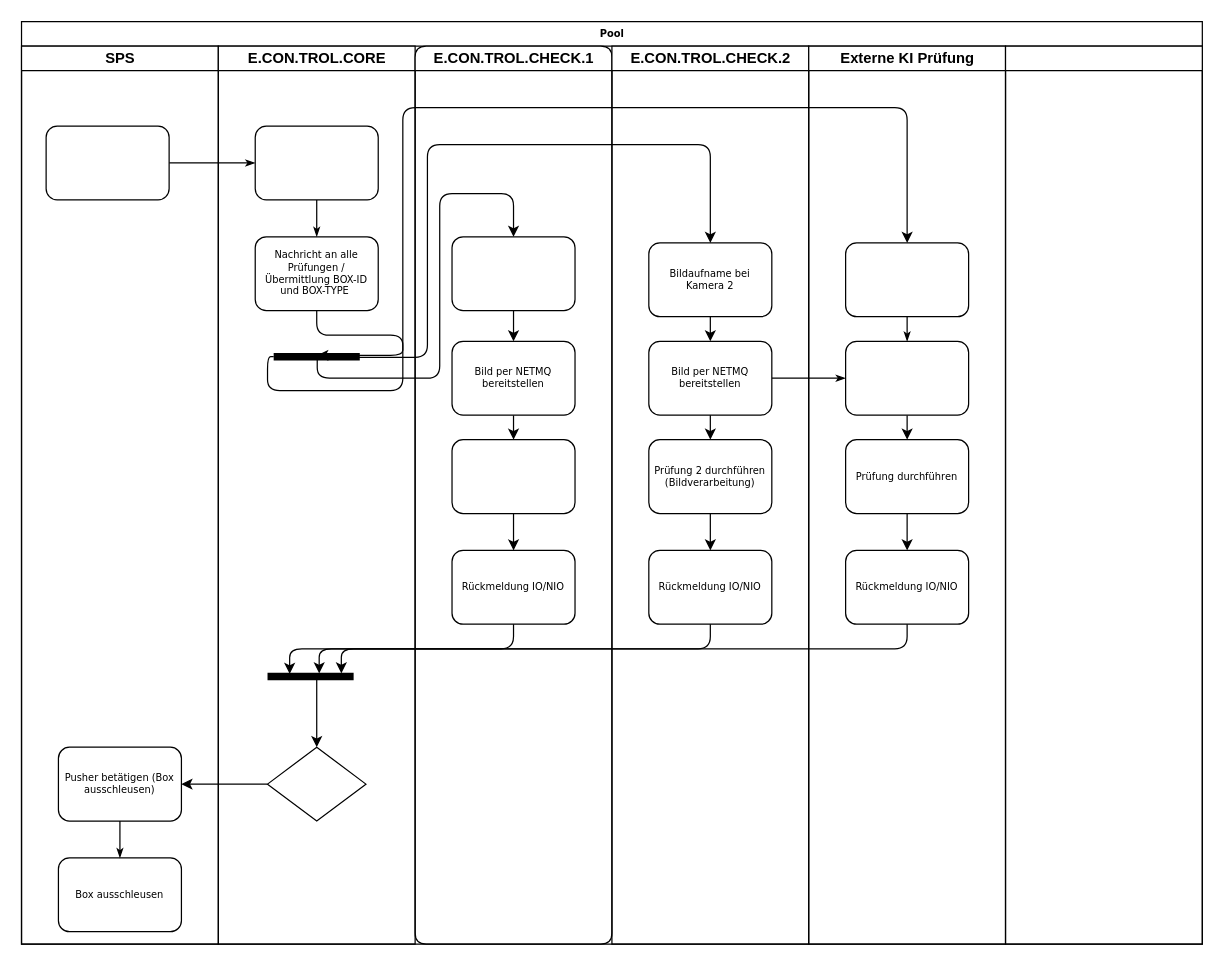
Some shapes in this 1224 by 966 pixel diagram are drawn without their labels. The shapes that lost their labels are listed below. From the top down, each one's centre as x and y in pixels, then its label:
At pixel 107 162: "Einlauf der BOX Bestimmung BOX-TYPE und Vergabe BOX-ID".
At pixel 316 162: "Start der Prüfung(en) E.CON.TROL.CHECK".
At pixel 513 273: "Bildaufname bei Kamera 1".
At pixel 906 279: "Prüfung vorbereiten".
At pixel 906 377: "Bild per NETMQ empfangen".
At pixel 513 476: "Prüfung 1 durchführen (Bildverarbeitung)".
At pixel 1103 494: "Lane 6".
At pixel 316 783: "Fehler vorhanden".
